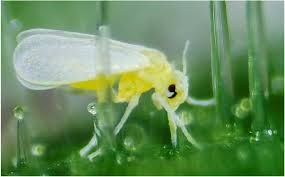Tobacco Whitefly: (7, 23, 202, 146)
